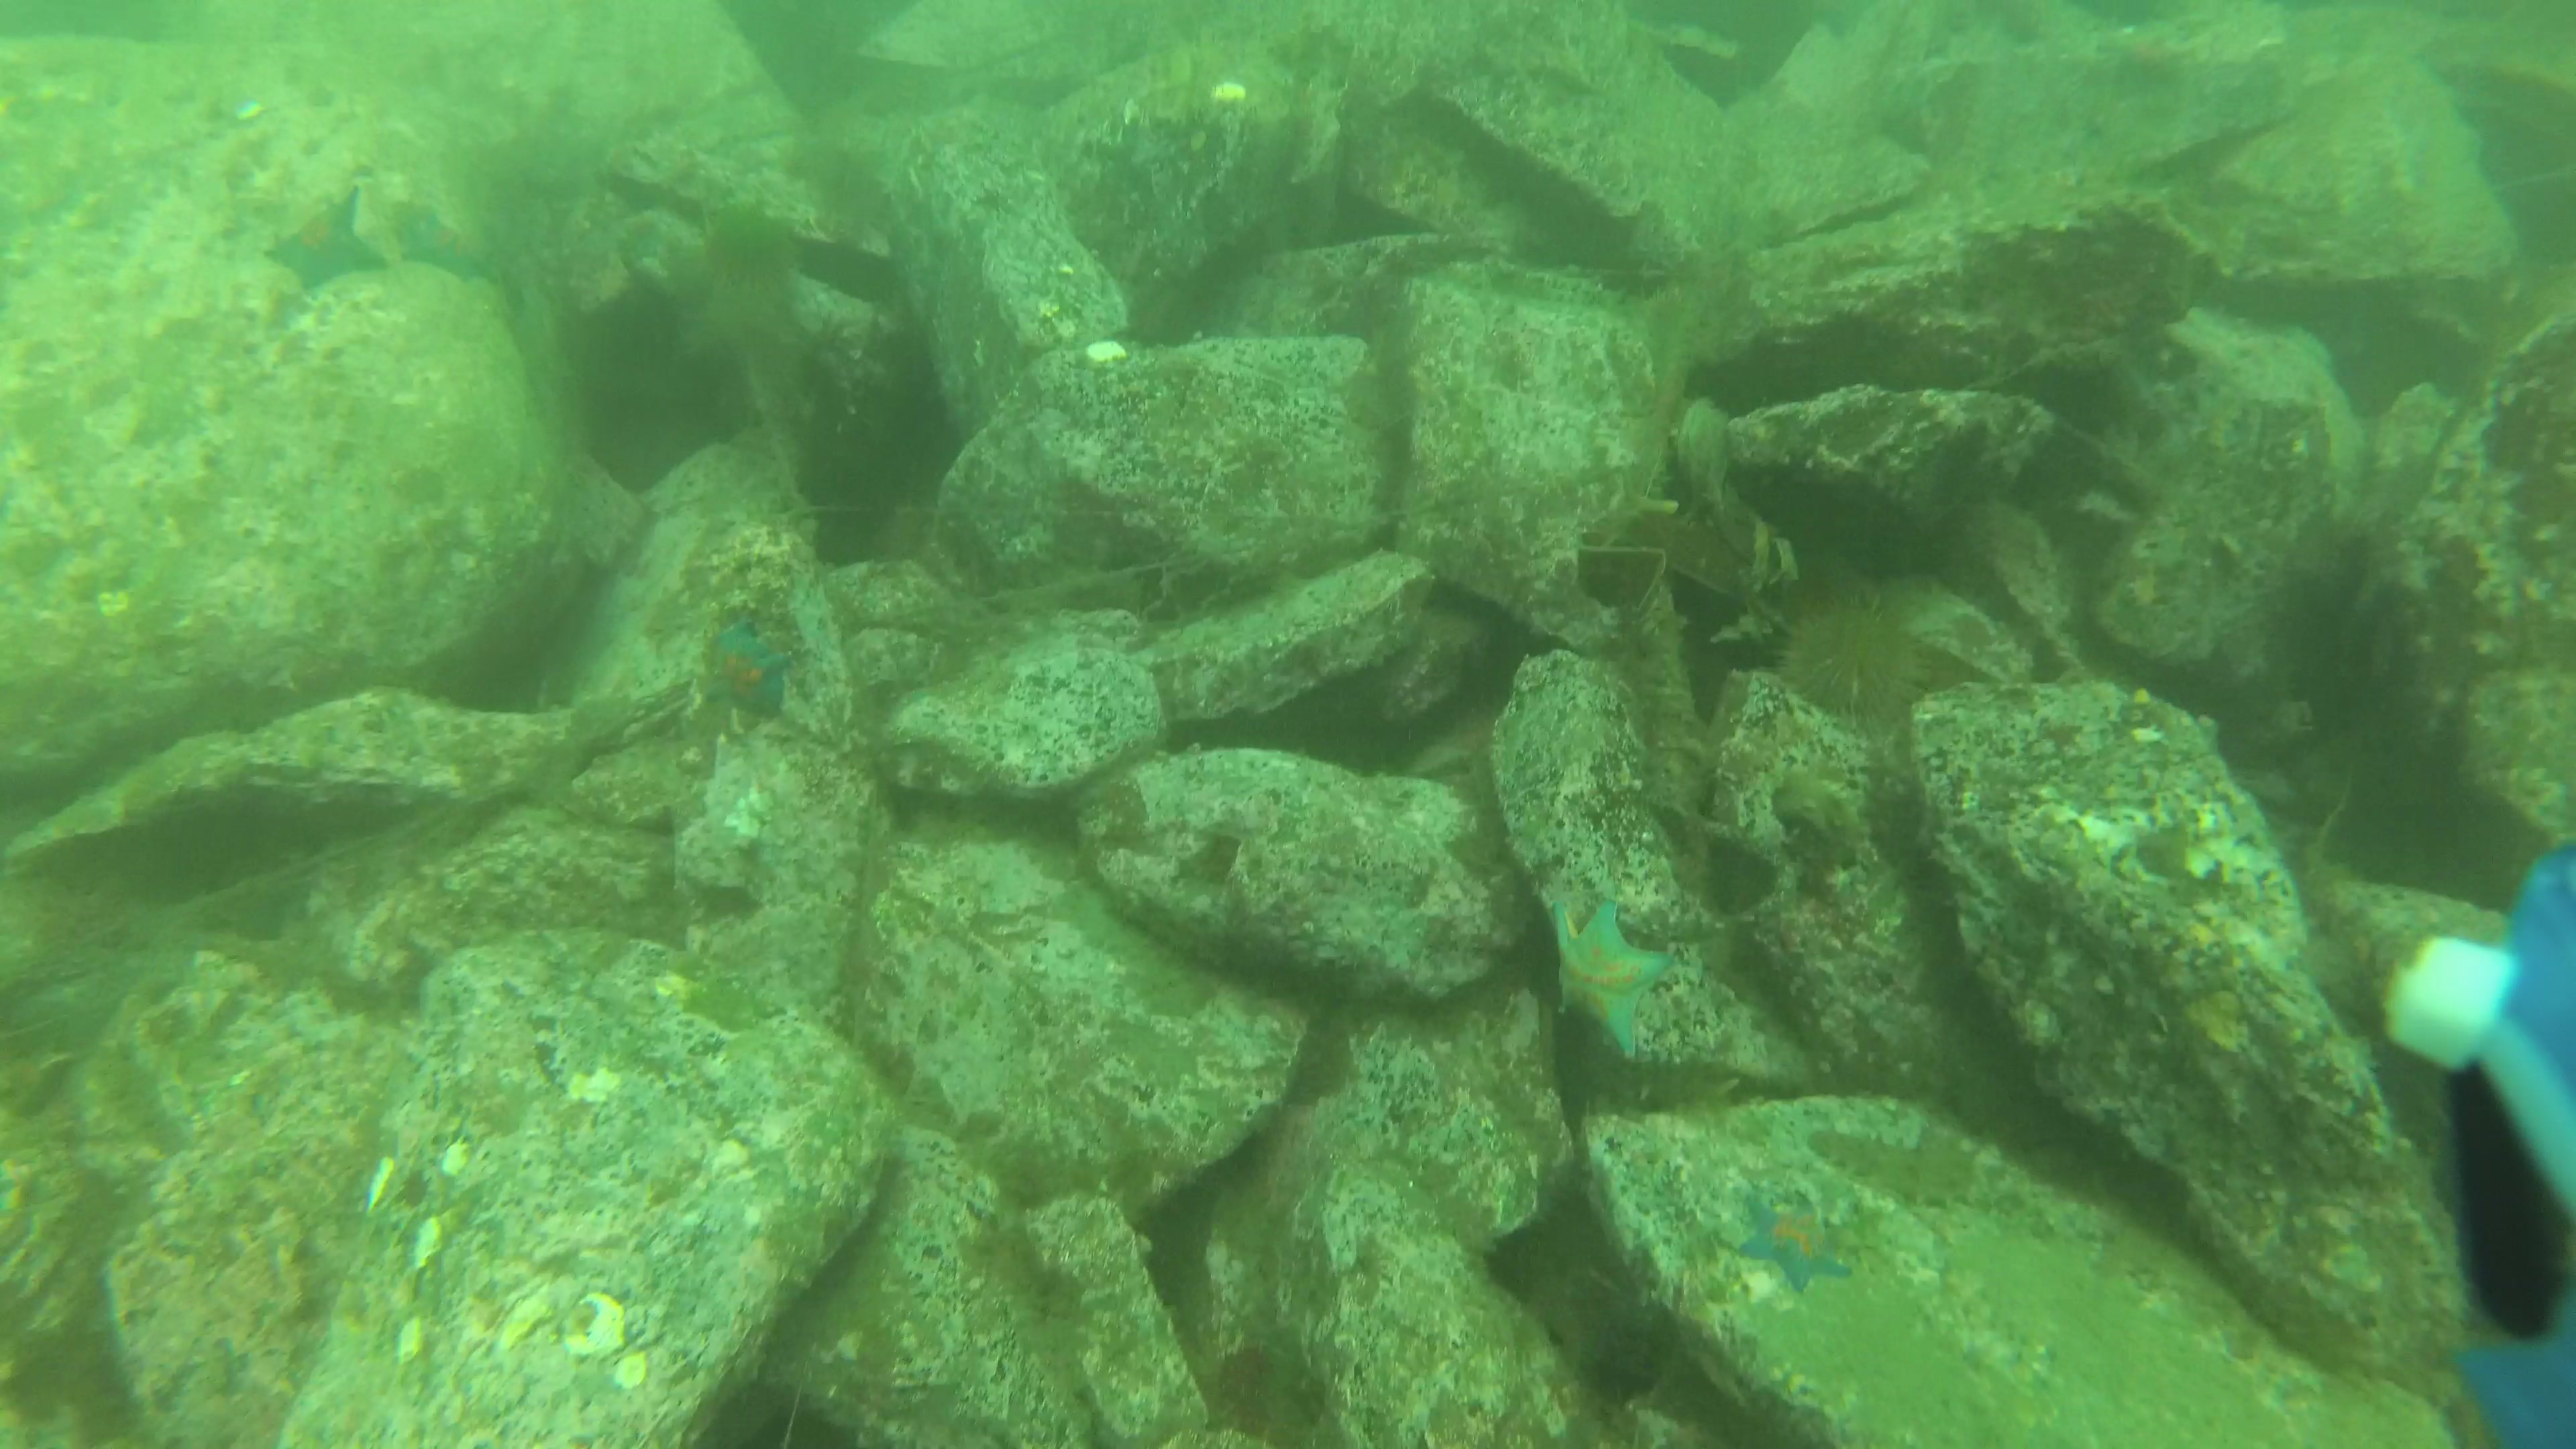echinus: (1767, 591, 1943, 752), (699, 195, 810, 306)
starfish: (1546, 892, 1684, 1063), (260, 186, 395, 297), (1732, 1187, 1859, 1297), (386, 195, 497, 292), (699, 612, 796, 722)
